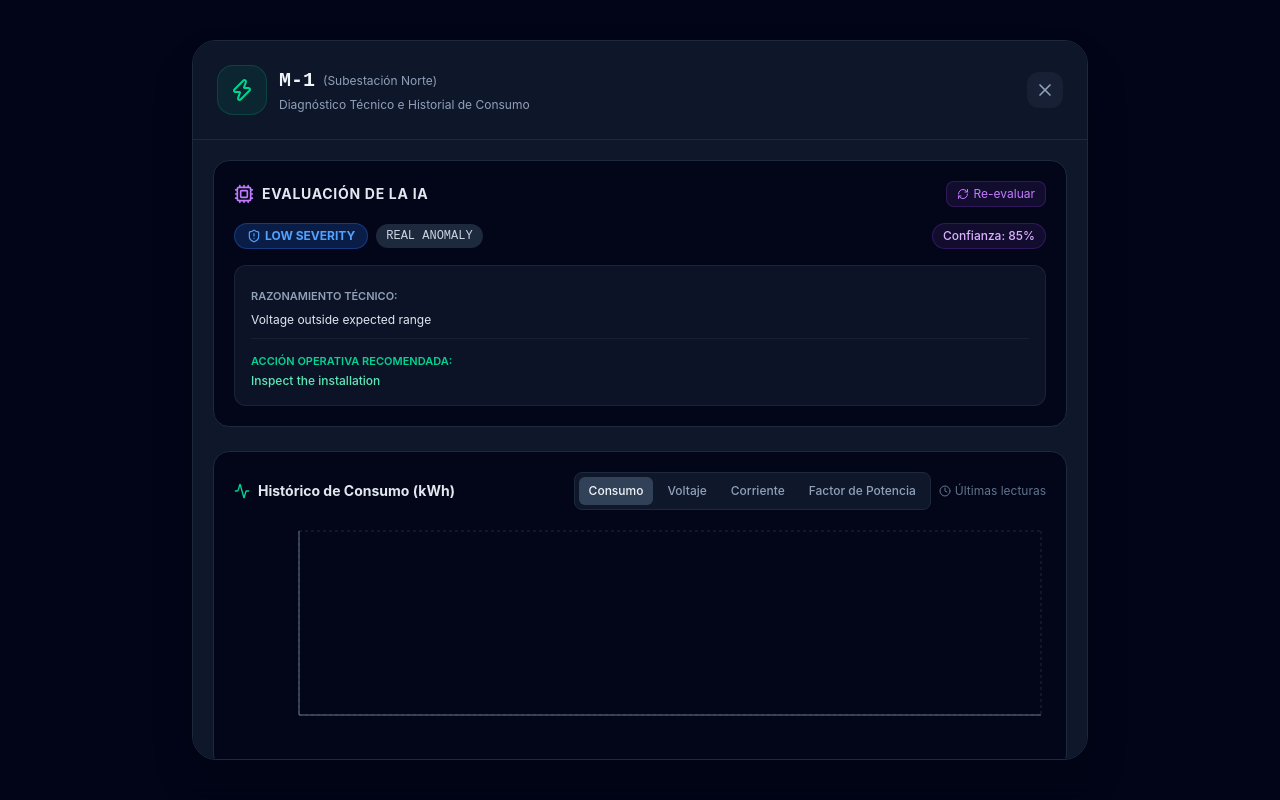
Test case: MeterModal › re-evaluates the meter and displays the returned AI anomaly
This screenshot has width=1280, height=800.
Step 1. Click the button "Re-evaluar" → (996, 194), box [946,181,1046,207]
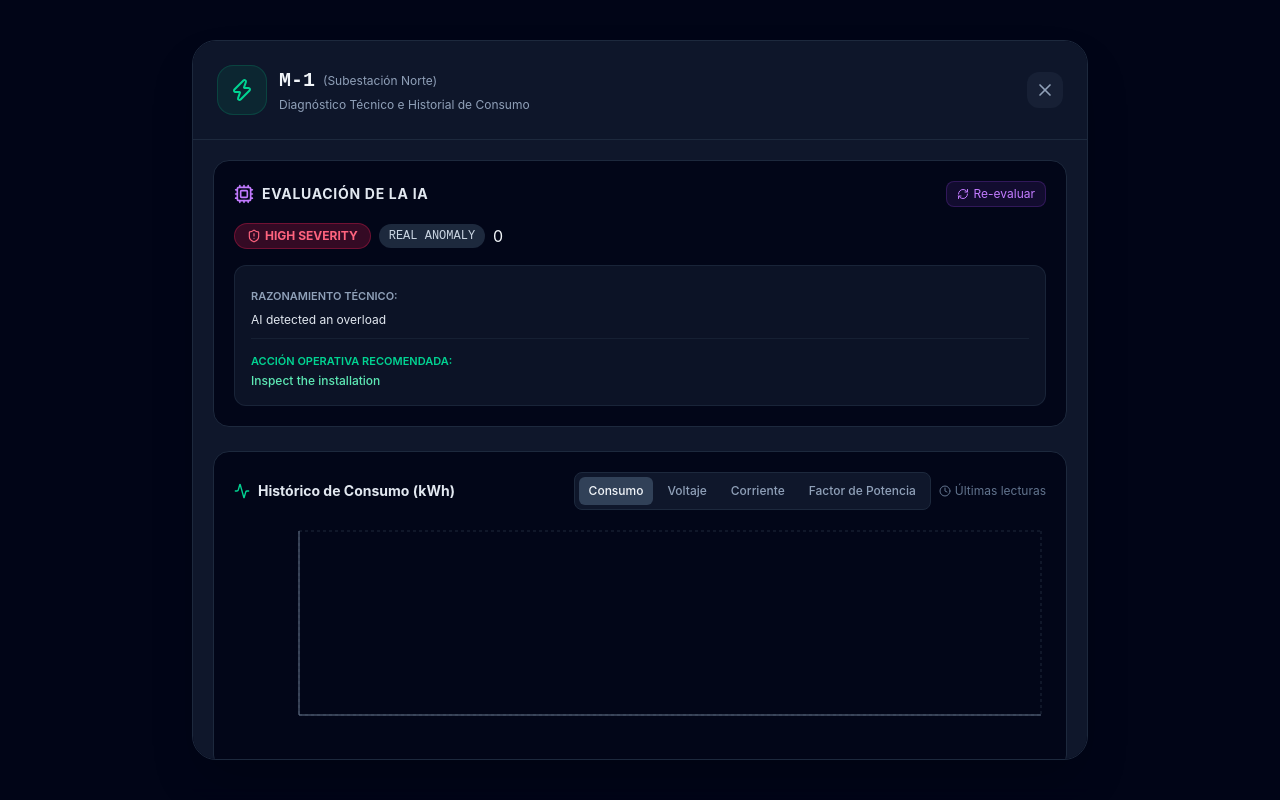
Check: the text "HIGH SEVERITY" is shown, box [234,223,371,249]
Check: the text "AI detected an overload" is shown, box [251,312,386,327]
